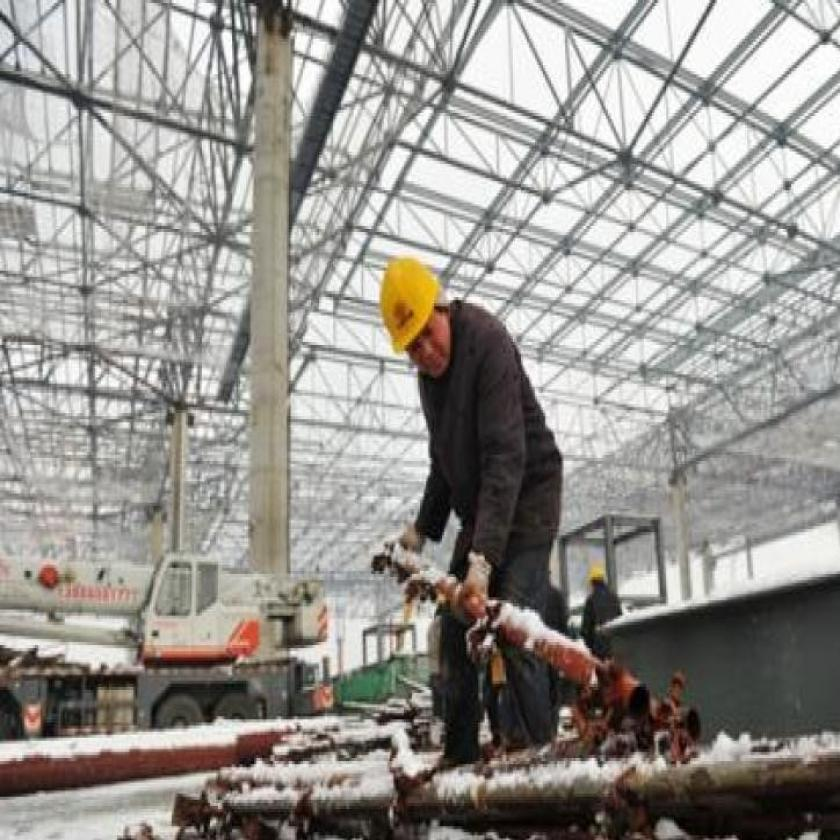Con_casco: (369, 241, 455, 394)
